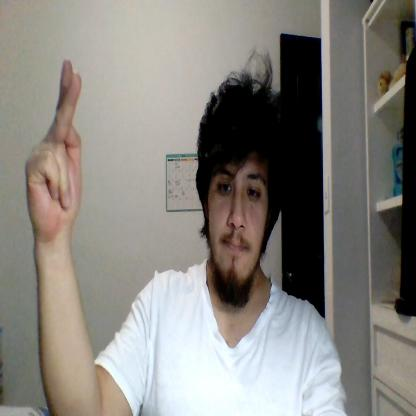P: (25, 60, 82, 234)
